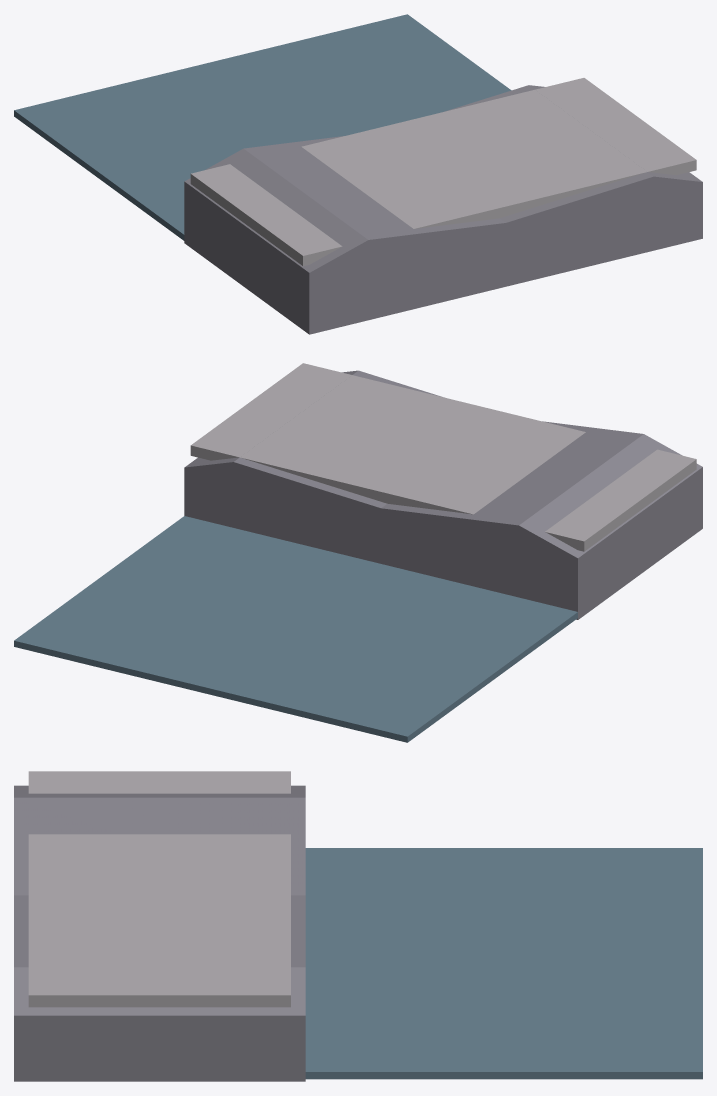
Rendered from mythic-underworld-and-olympus-styx-bank-straight-8498eb8d__21349.glb.
3 views of the same model, one above another, from view 1: azimuth 30°, elevation 25°; view 2: azimuth 150°, elevation 25°; view 3: azimuth 270°, elevation 25° (orthographic). The views are drawn at different scales.
Visible parts, largest first — view 1: styx-bank-straight; view 2: styx-bank-straight; view 3: styx-bank-straight.
Part boxes in pixels (x1,y1,x2,y2): styx-bank-straight: [14, 14, 702, 334]; styx-bank-straight: [14, 363, 702, 742]; styx-bank-straight: [14, 771, 702, 1081].
Bounding box in the file's own units: 4 × 0.7798 × 5.2.
